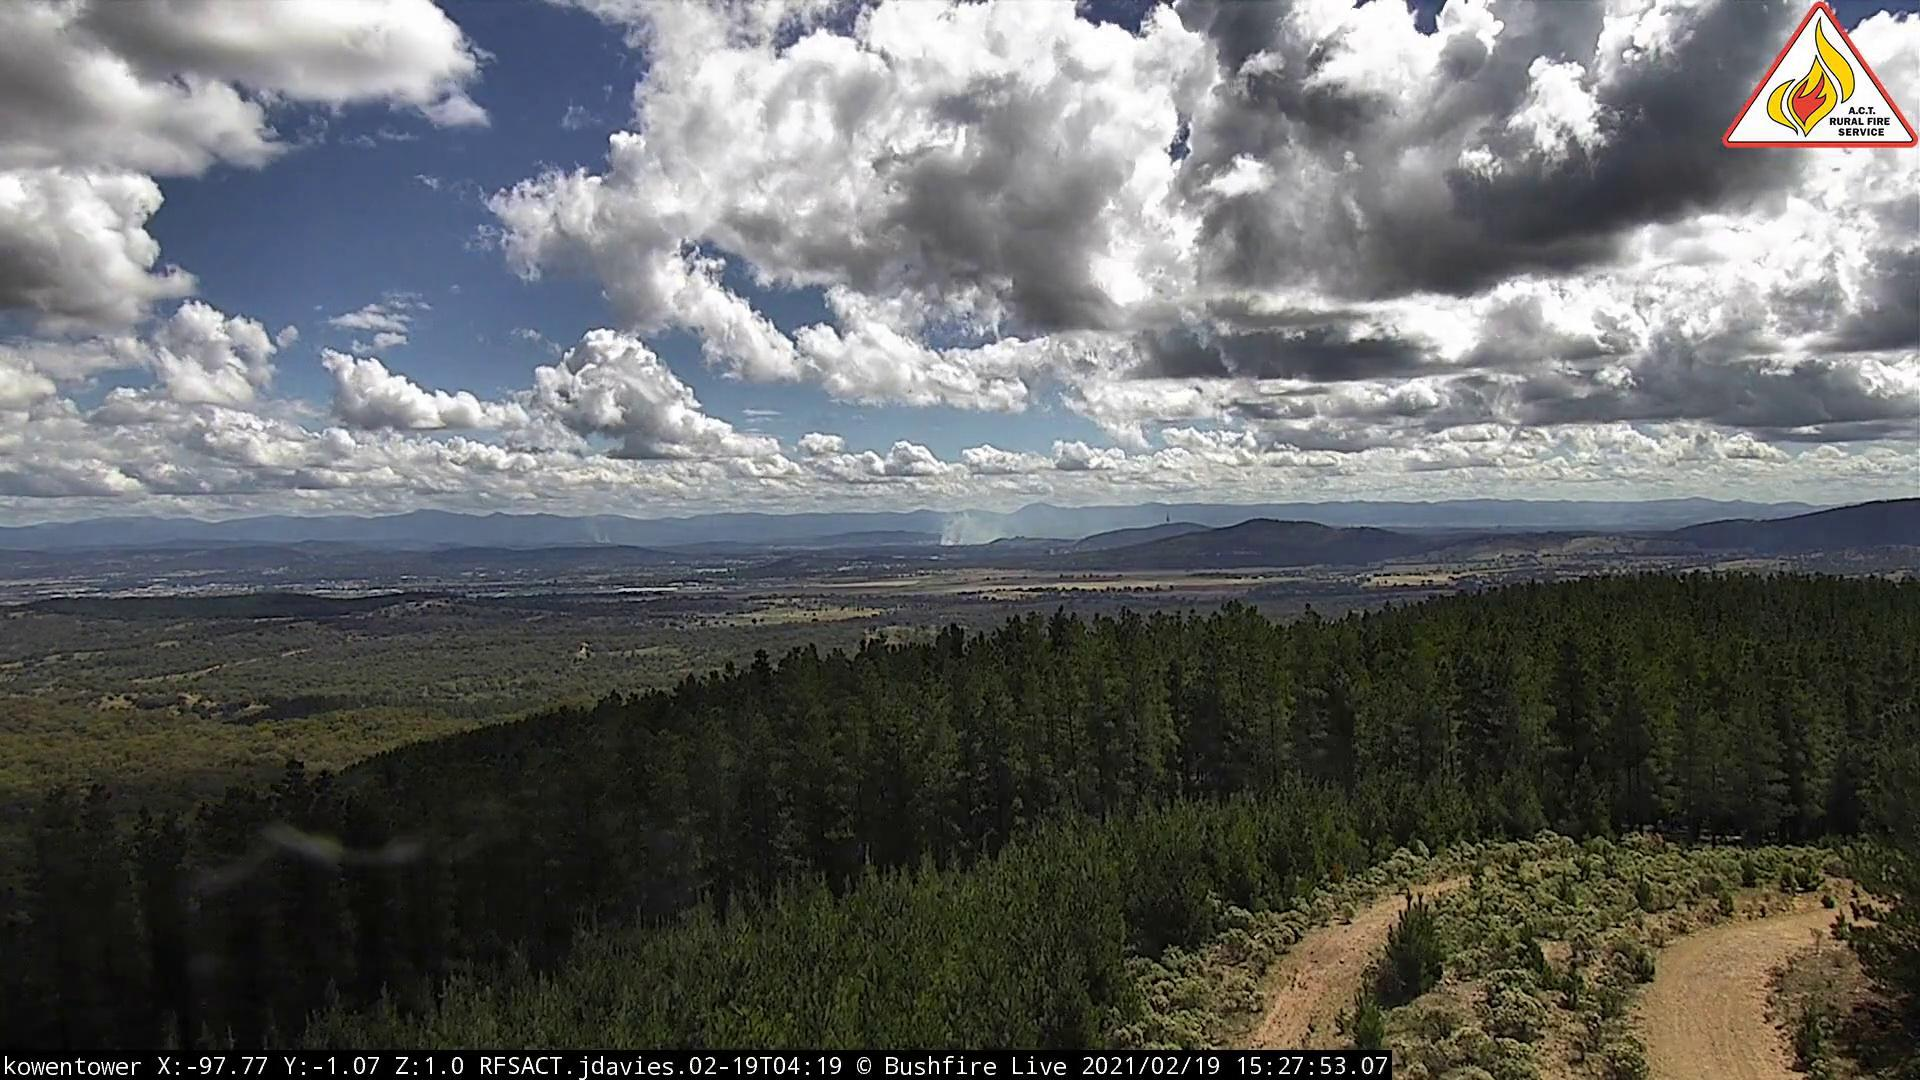instance_salient_object: (934, 502, 1025, 551), (589, 527, 618, 553)
